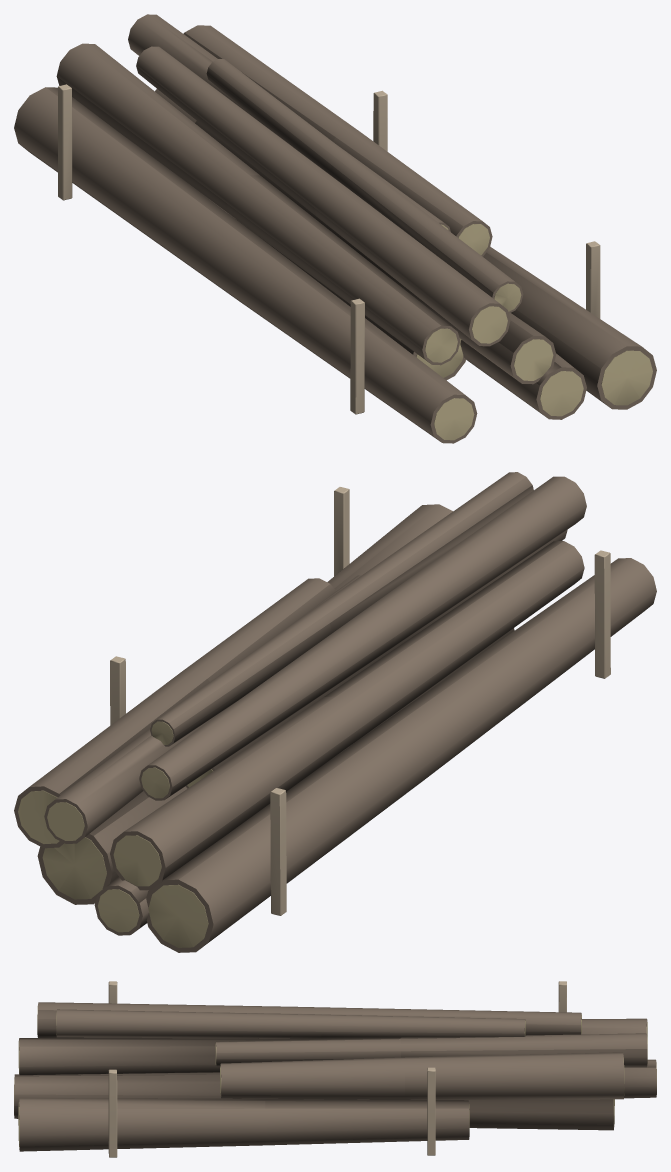
File: log_stack.glb
3 renders of one model, top to bottom at view 1: azimuth 30°, elevation 25°; view 2: azimuth 150°, elevation 25°; view 3: azimuth 270°, elevation 25°, orthographic. The views are drawn at different scales.
Visible parts, largest first — view 1: static; view 2: static; view 3: static.
Boxes of the visible parts, x1,y1,x2,y2 form: static: [14, 14, 656, 443]; static: [14, 472, 656, 952]; static: [14, 981, 656, 1157].
Bounding box in the file's own units: 2.32 × 1.21 × 6.86.
